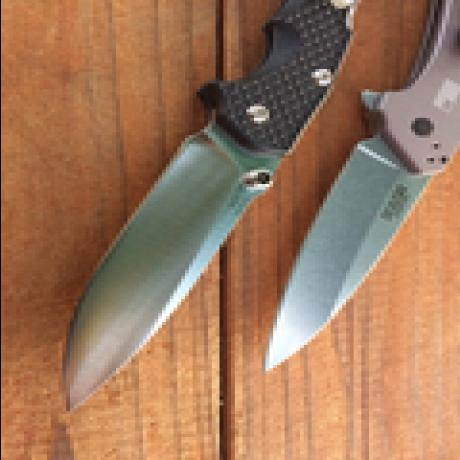weapon: (57, 0, 356, 416), (264, 0, 460, 371)
